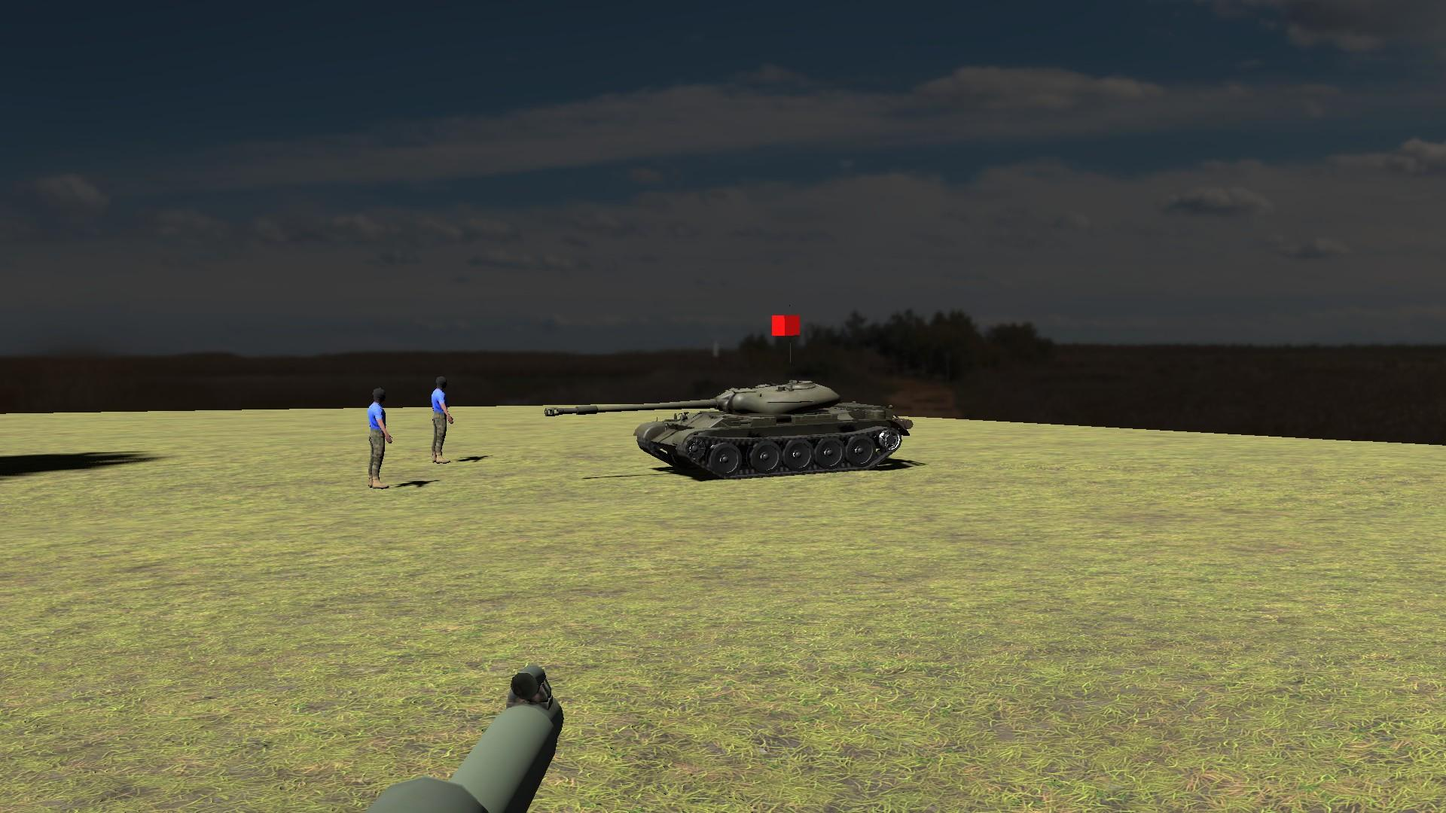Human: (364, 382, 397, 496), (427, 372, 458, 468)
Tank: (539, 367, 921, 486)
